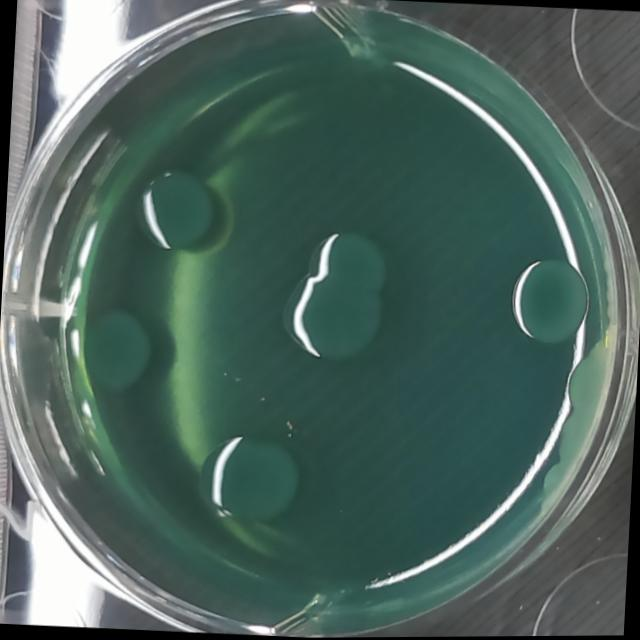vibrio: (281, 220, 414, 377), (195, 424, 306, 540), (68, 293, 180, 405), (500, 246, 600, 362), (136, 156, 232, 274)
